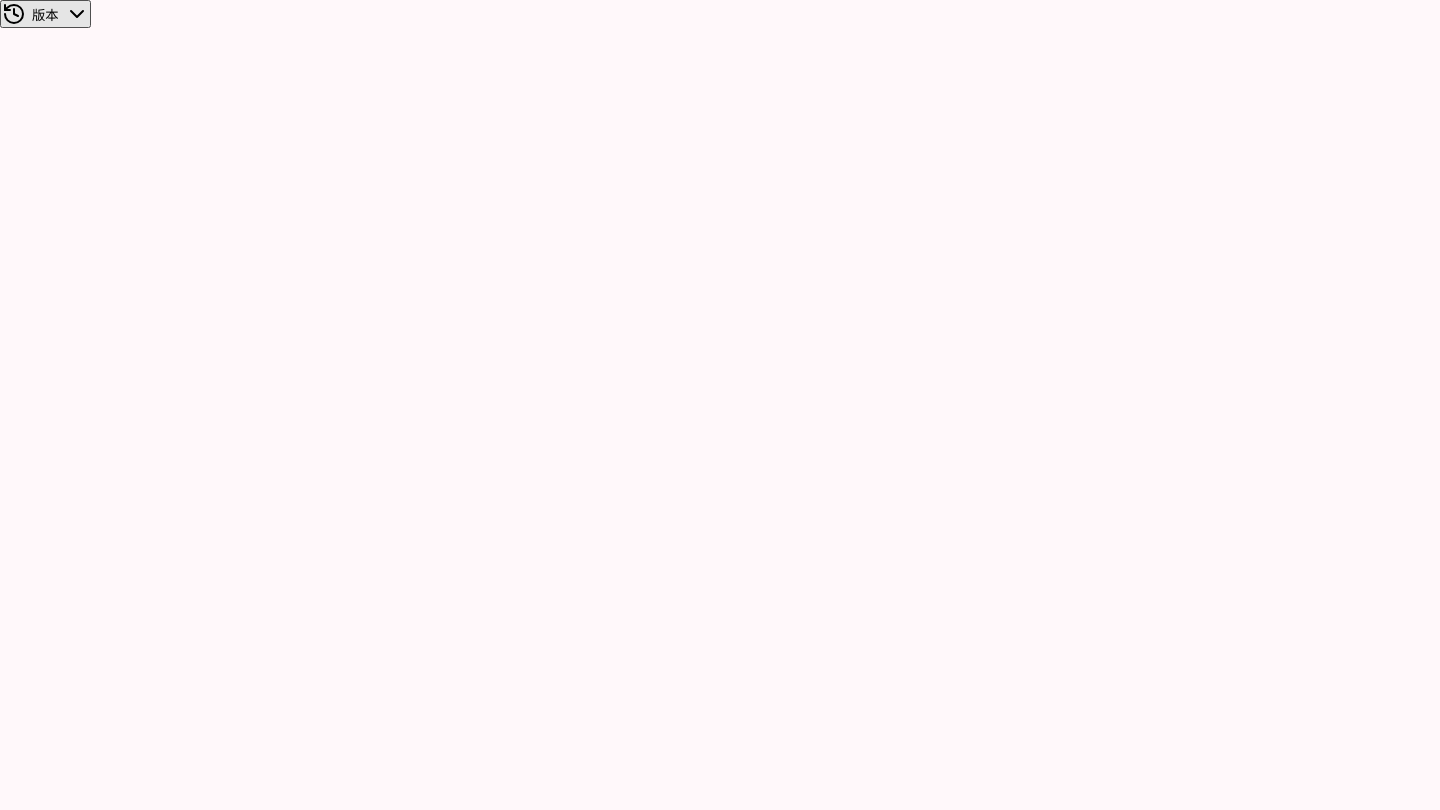
Test: ScriptVersionMenu › keeps the typed name when saving the version fails
This screenshot has width=1440, height=810.
Click the button "版本": (45, 14) x1=0 y1=0 x2=91 y2=28
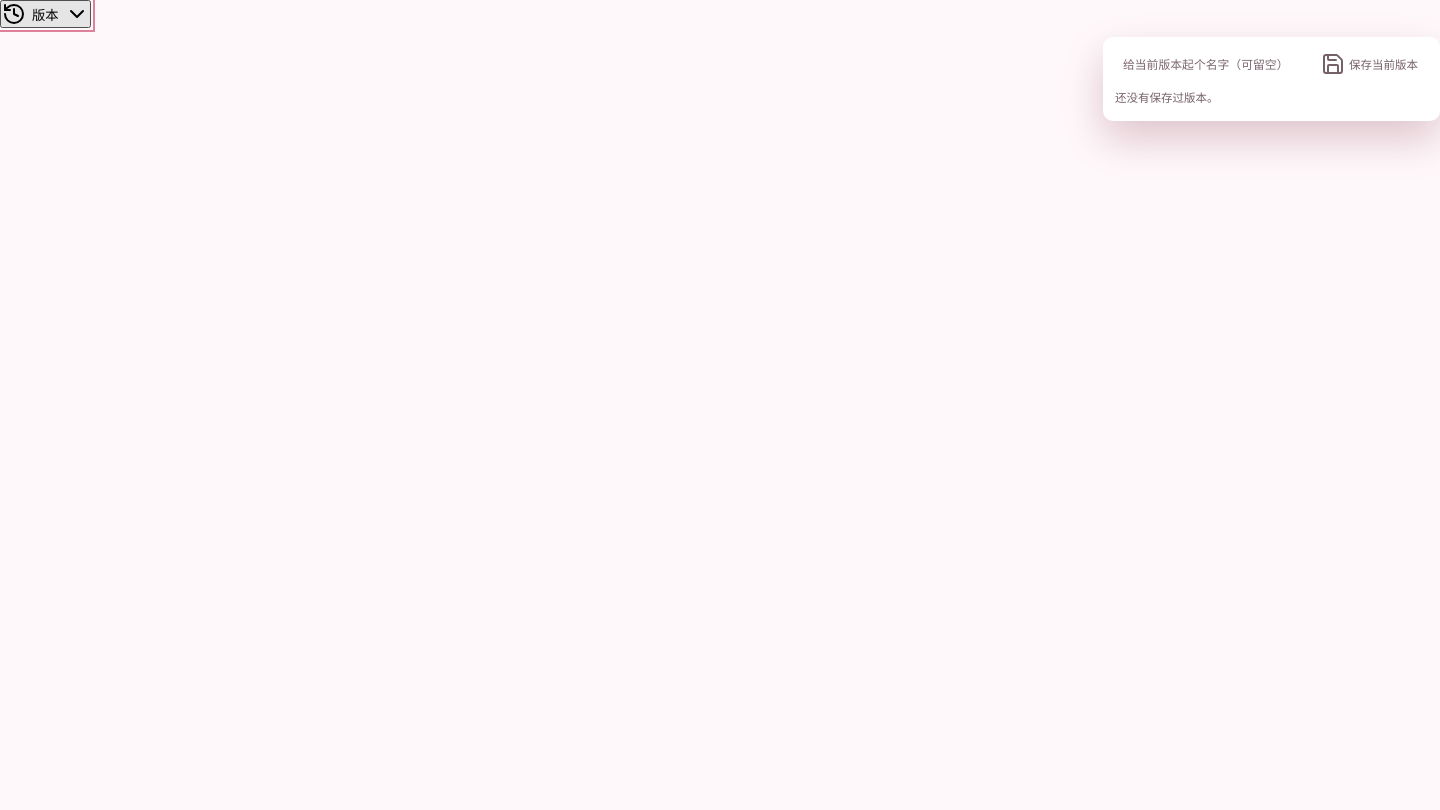
In the field named "版本名称": (1210, 64) x1=1115 y1=49 x2=1305 y2=79, type "定稿前"
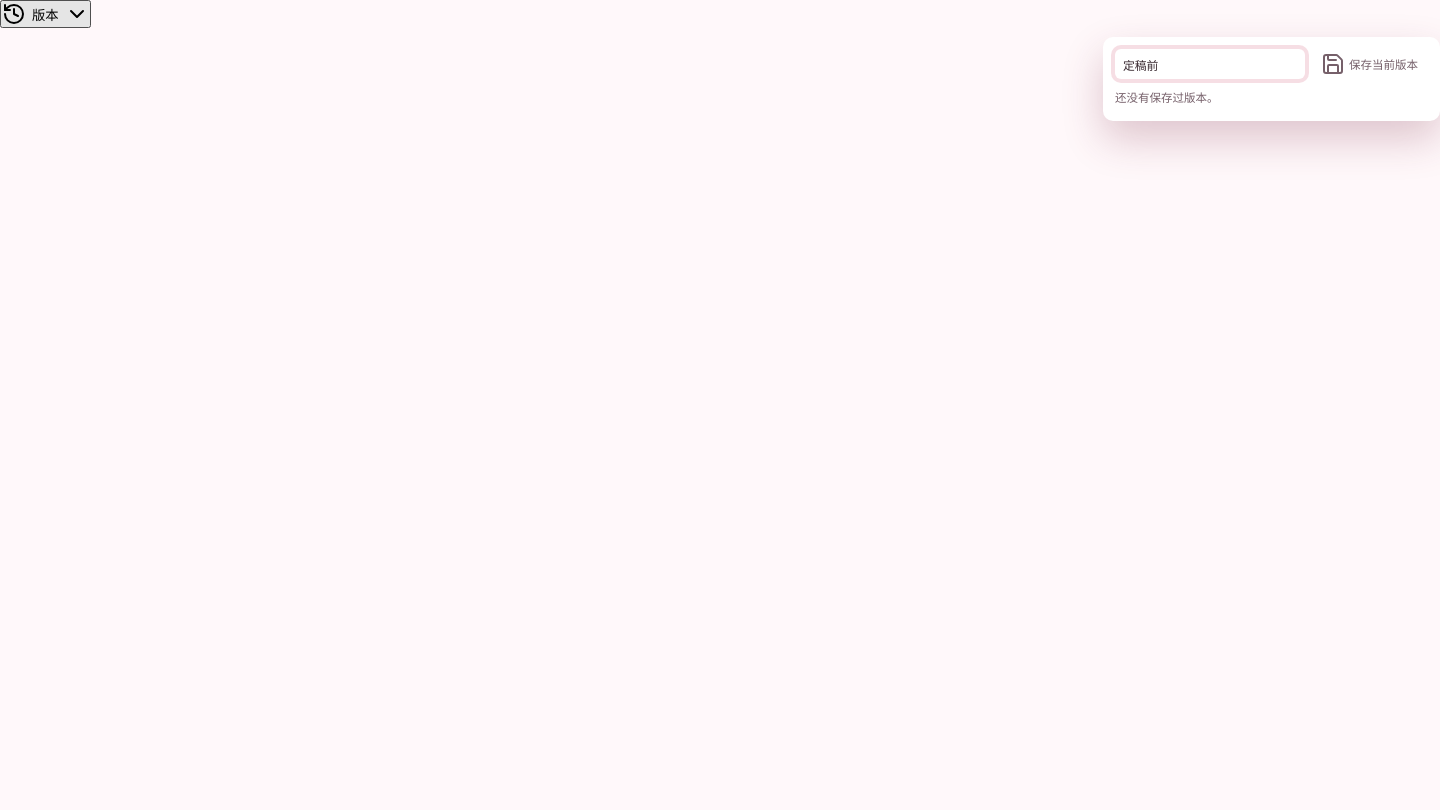
Click the button "保存当前版本": (1369, 64) x1=1311 y1=49 x2=1428 y2=79
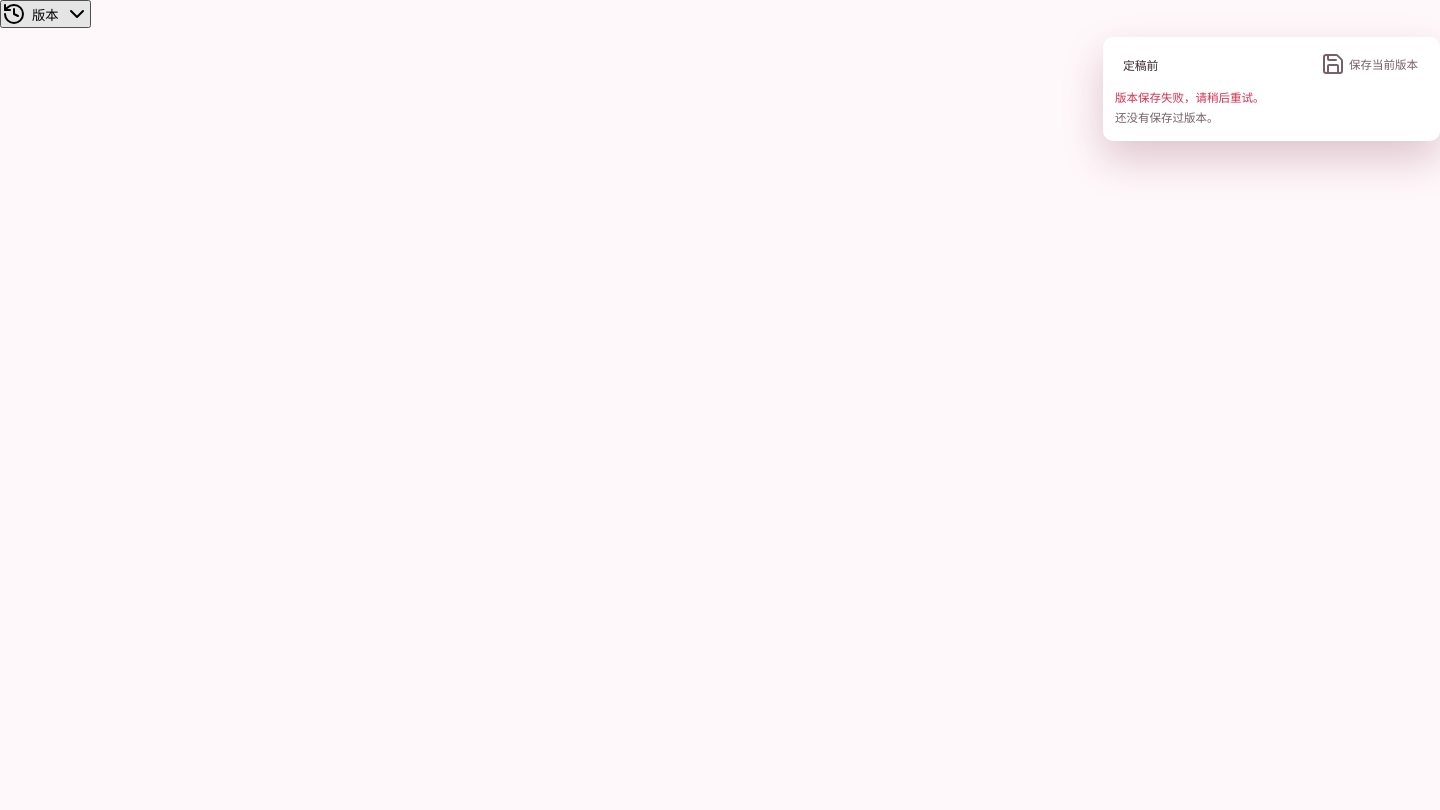
Result: the message shows "版本保存失败" at x1=1115 y1=90 x2=1265 y2=105
